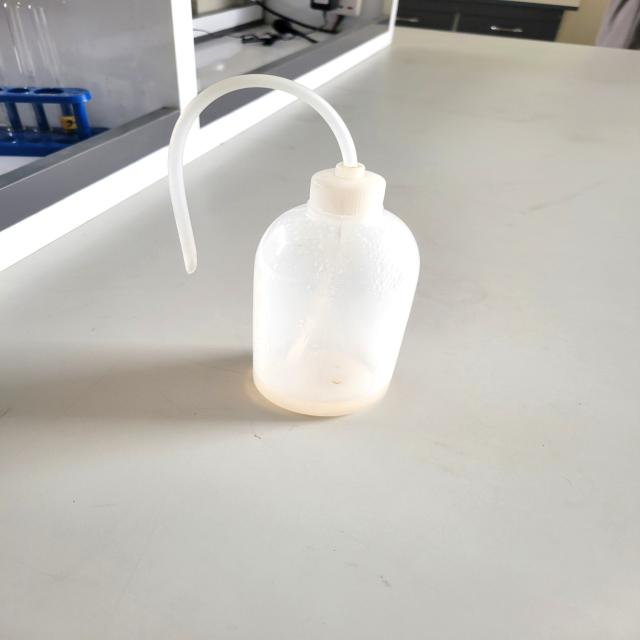Wash_Bottle: (140, 69, 438, 444)
